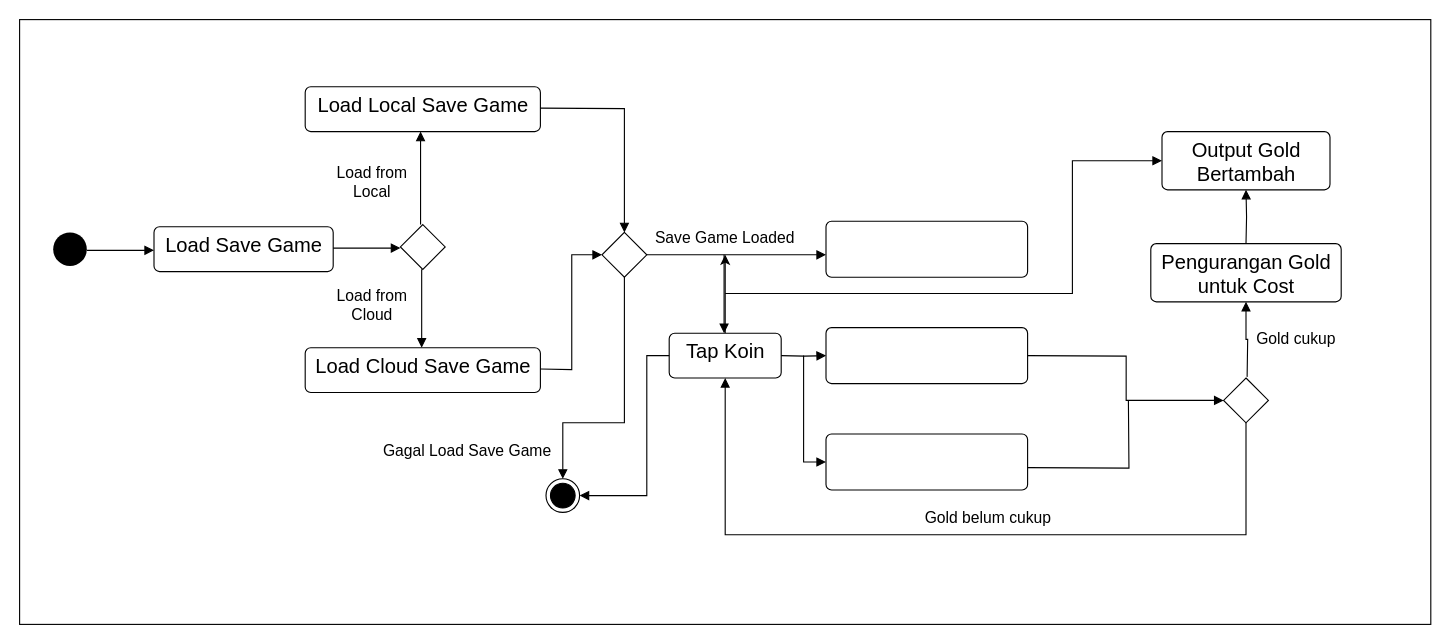
Some shapes in this 1450 by 644 pixel diagram are drawn without their labels. Here are the shapes that lost their labels. From the top down, the box of each, then its label:
(825, 220, 1028, 277): Auto-Collect Gold Setiap Detik
(825, 326, 1028, 384): Upgrade Level Resources
(825, 433, 1028, 490): Unlock Resources
